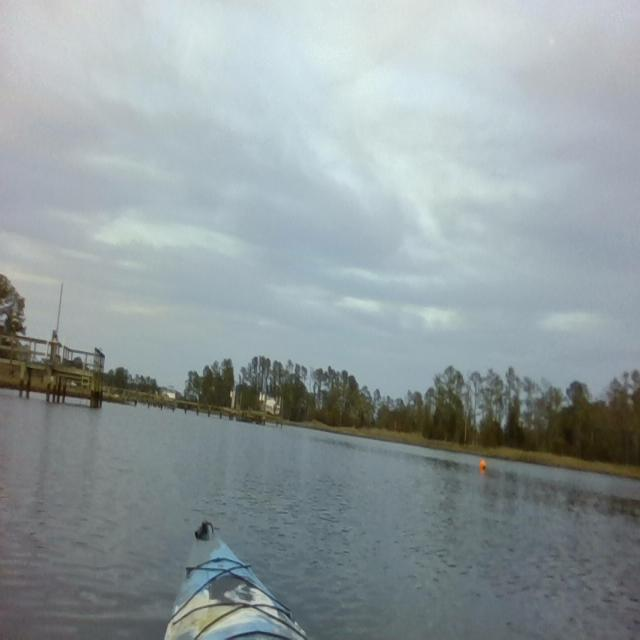Buoy: (478, 453, 487, 475)
